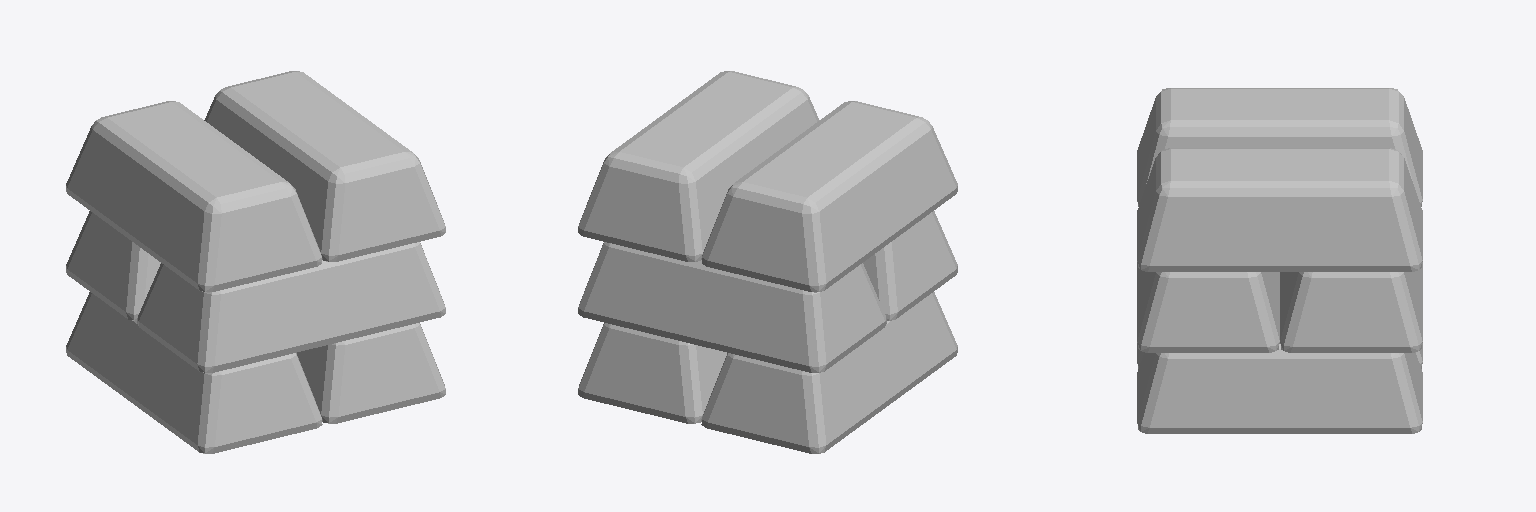
The model's file is Gold_Bars_Stack_Small.obj.
3 views of the same model, side by side, from view 1: azimuth 30°, elevation 25°; view 2: azimuth 150°, elevation 25°; view 3: azimuth 270°, elevation 25° (orthographic).
Visible parts, largest first — view 1: Gold_Bars_Stack_Small; view 2: Gold_Bars_Stack_Small; view 3: Gold_Bars_Stack_Small.
Part boxes in pixels (x1,y1,x2,y2): Gold_Bars_Stack_Small: (66, 71, 445, 453); Gold_Bars_Stack_Small: (578, 71, 957, 453); Gold_Bars_Stack_Small: (1137, 88, 1422, 433).
Size of the model in its own units: 0.8 by 0.75 by 0.8.